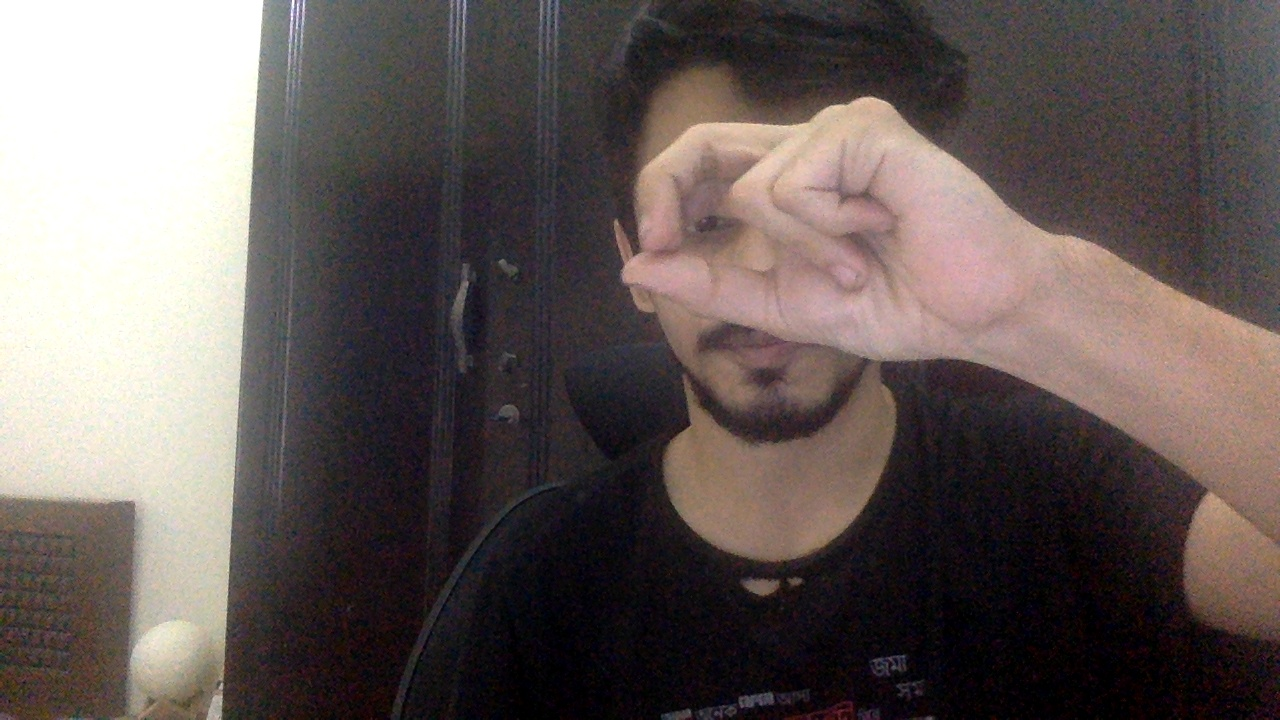zero: (626, 95, 1015, 362)
